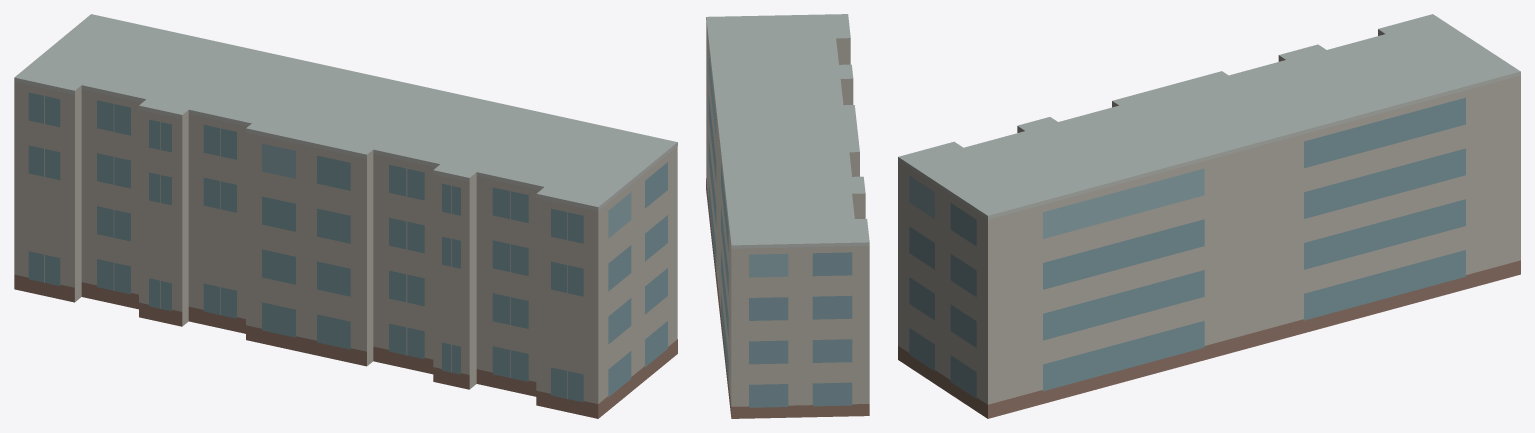
The model's file is survey-upis-32871742.glb.
3 views of the same model, side by side, from view 1: azimuth 30°, elevation 25°; view 2: azimuth 150°, elevation 25°; view 3: azimuth 270°, elevation 25° (orthographic). The views are drawn at different scales.
Visible parts, largest first — view 1: survey-upis-32871742.tmp; view 2: survey-upis-32871742.tmp; view 3: survey-upis-32871742.tmp.
Boxes of the visible parts, box(x1,y1,x2,y2) form: survey-upis-32871742.tmp: box(14, 14, 677, 418); survey-upis-32871742.tmp: box(706, 14, 869, 418); survey-upis-32871742.tmp: box(898, 14, 1520, 418).
Size of the model in its own units: 27.1 by 12.7 by 35.32.
